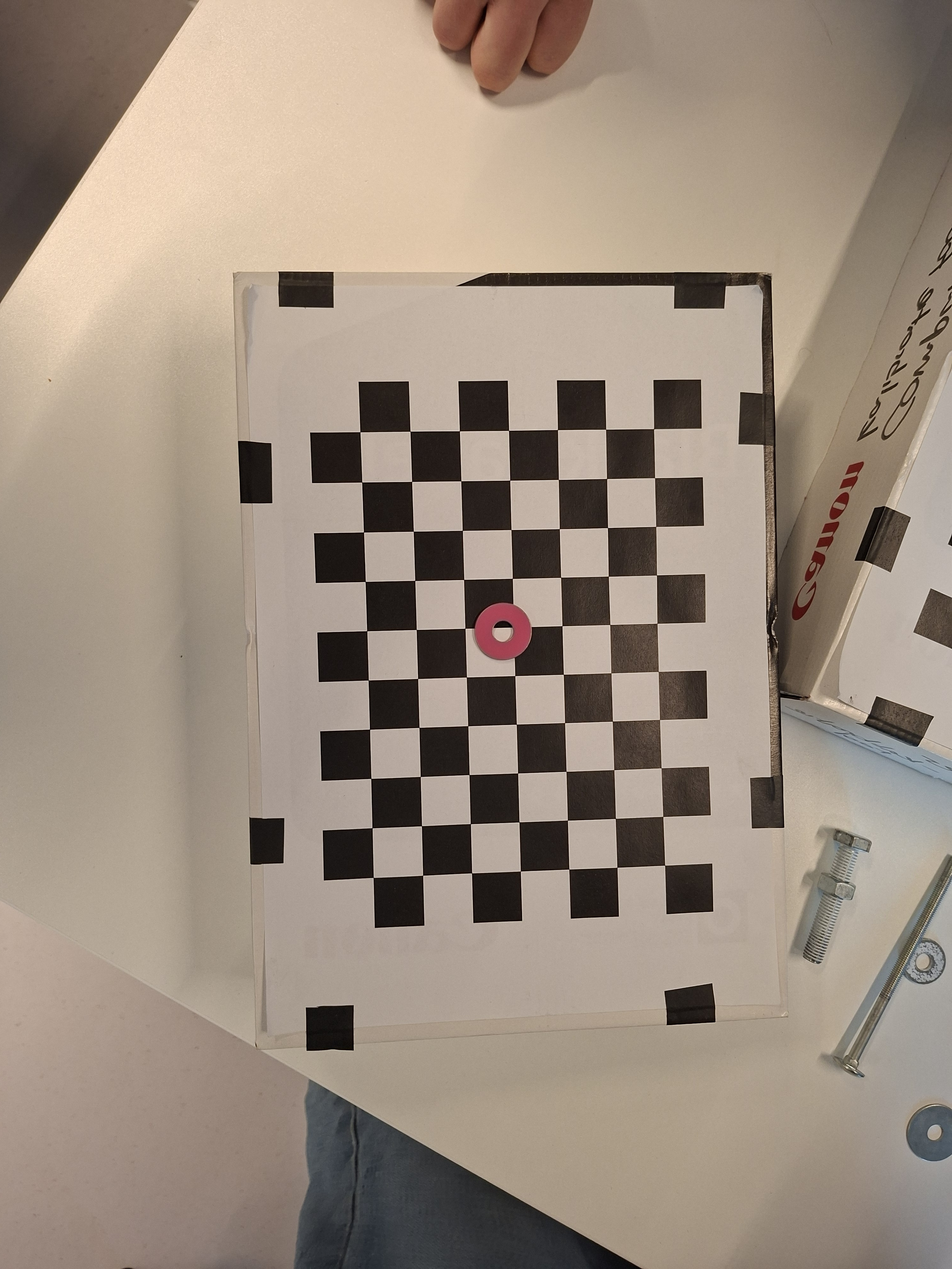washer: (472, 599, 537, 664)
